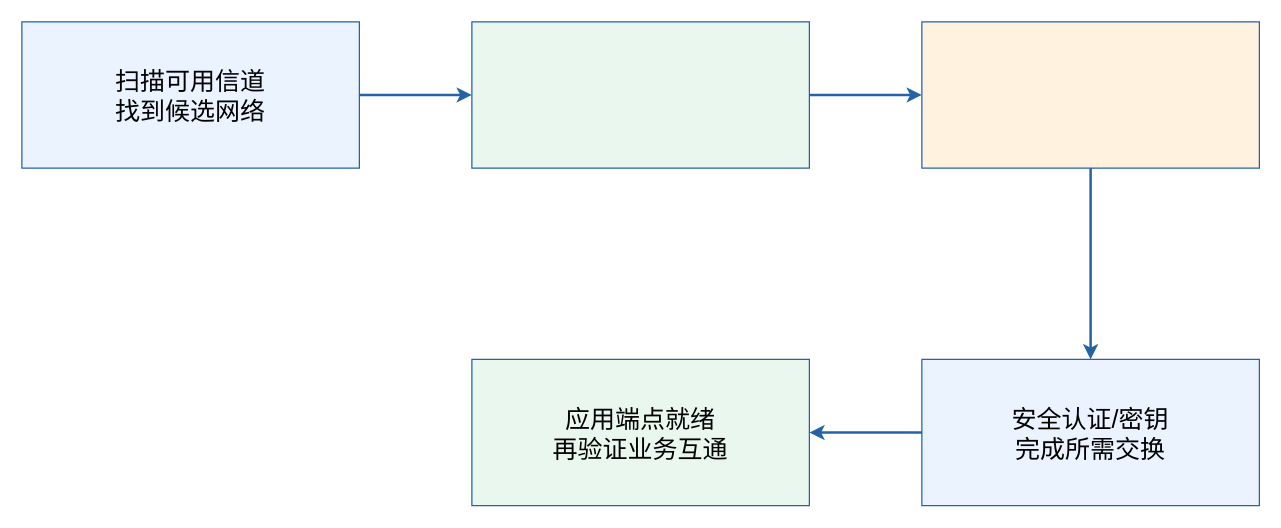
The diagram is 1281 pixels wide and 528 high, and some of its shapes have lost their labels. Each missing label, with the box of its shape:
允许加入? 信号/容量是否满足: (471, 21, 809, 168)
关联并分配身份 父节点接纳: (921, 21, 1259, 168)
